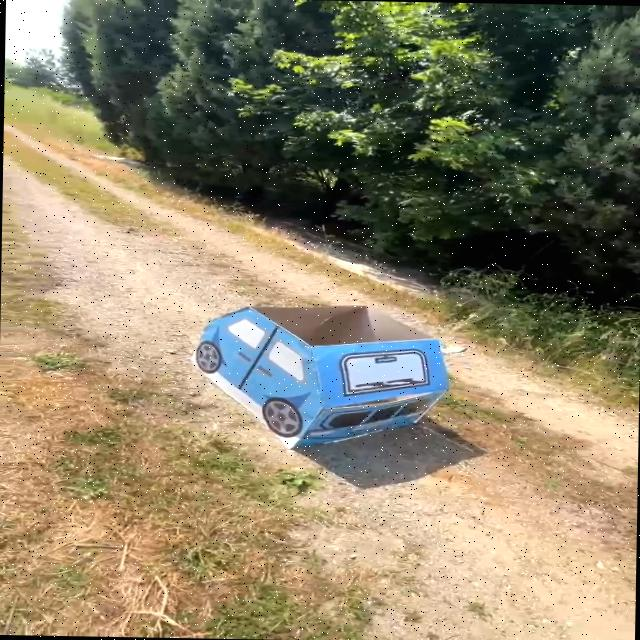blue_car: (181, 286, 470, 470)
